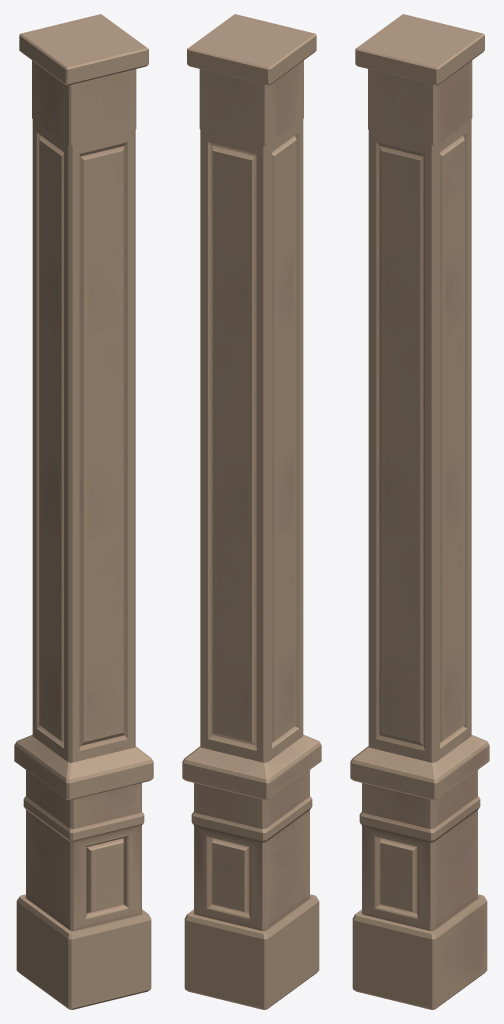
The model's file is column2Base (3).fbx.
The picture shows the model from 3 angles, left to right: view 1: azimuth 30°, elevation 25°; view 2: azimuth 150°, elevation 25°; view 3: azimuth 330°, elevation 25°; orthographic projection.
Parts seen in each view (by area): view 1: column2Middle1, column2Base (3), column2Top; view 2: column2Middle1, column2Base (3), column2Top; view 3: column2Middle1, column2Base (3), column2Top.
Boxes of the visible parts, x1,y1,x2,y2 form: column2Middle1: (32,119,135,762); column2Base (3): (14,734,153,1009); column2Top: (19,14,148,145); column2Middle1: (200,119,303,762); column2Base (3): (182,734,321,1009); column2Top: (187,14,316,145); column2Middle1: (368,119,471,762); column2Base (3): (350,735,489,1009); column2Top: (355,14,484,145).
Bounding box in the file's own units: 296 × 3049 × 319.
